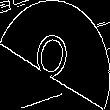O_SW: (32, 22, 78, 88)
